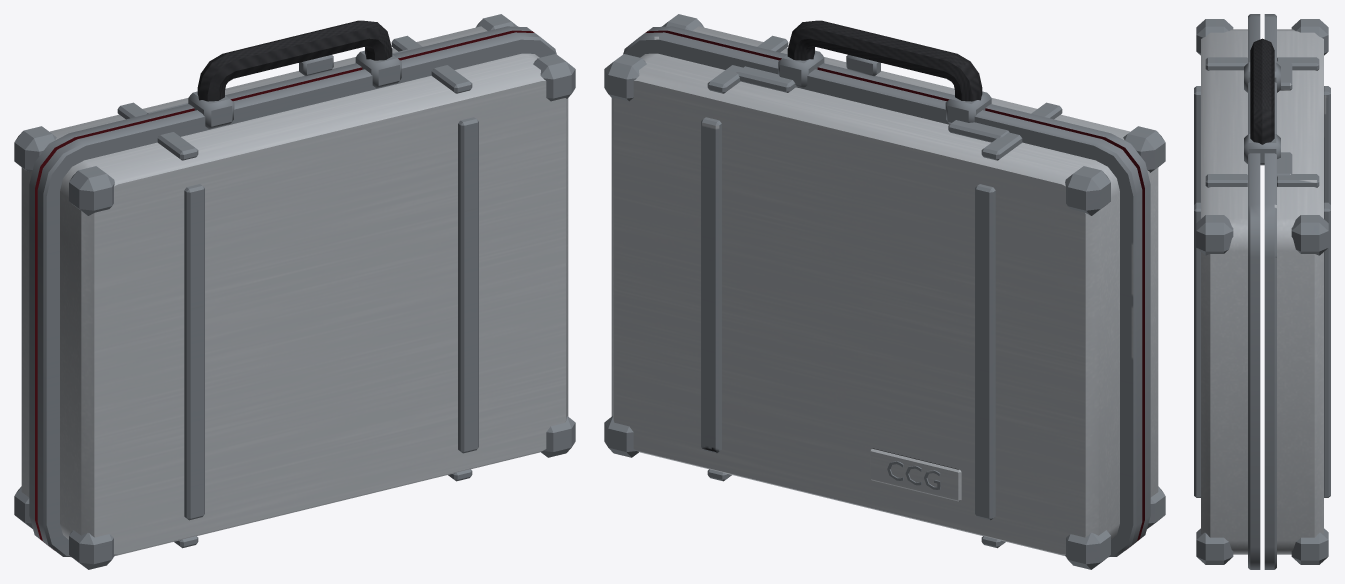
The model's file is quinque_case.obj.
The picture shows the model from 3 angles, left to right: view 1: azimuth 30°, elevation 25°; view 2: azimuth 150°, elevation 25°; view 3: azimuth 270°, elevation 25°; orthographic projection. The views are drawn at different scales.
Parts seen in each view (by area): view 1: CaseShellBack, CaseShellFront, CaseHandle; view 2: CaseShellFront, CaseShellBack, CaseHandle; view 3: CaseShellFront, CaseShellBack, CaseHandle.
Part boxes in pixels (x1,y1,x2,y2): CaseShellBack: (37,32,575,569); CaseShellFront: (14,14,534,550); CaseHandle: (188,20,401,128); CaseShellFront: (604,32,1142,569); CaseShellBack: (645,14,1165,550); CaseHandle: (778,20,991,123); CaseShellFront: (1264,14,1330,569); CaseShellBack: (1194,14,1260,569); CaseHandle: (1244,38,1280,165).
Size of the model in its own units: 1.7 by 1.45 by 0.446.
